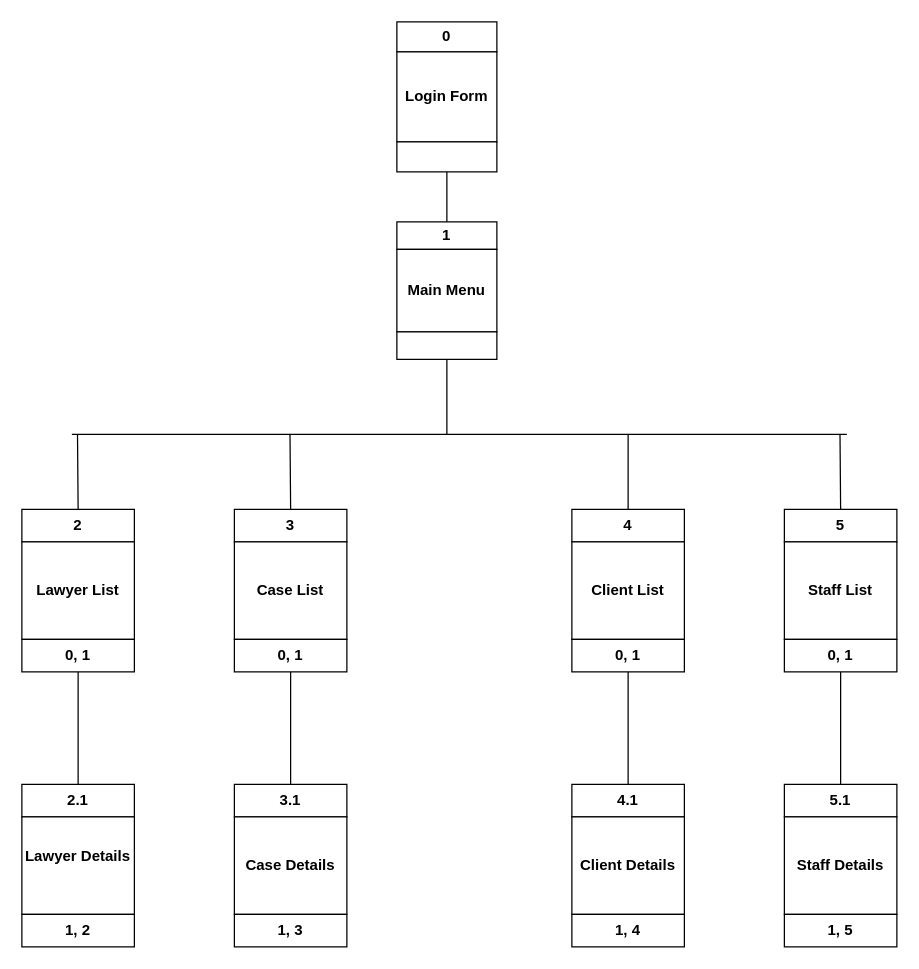
Some shapes in this 919 by 969 pixel diagram are drawn without their labels. The centre of each missing label's shape, as x and y in pixels:
0, System: point (446, 345)
System: point (446, 156)
